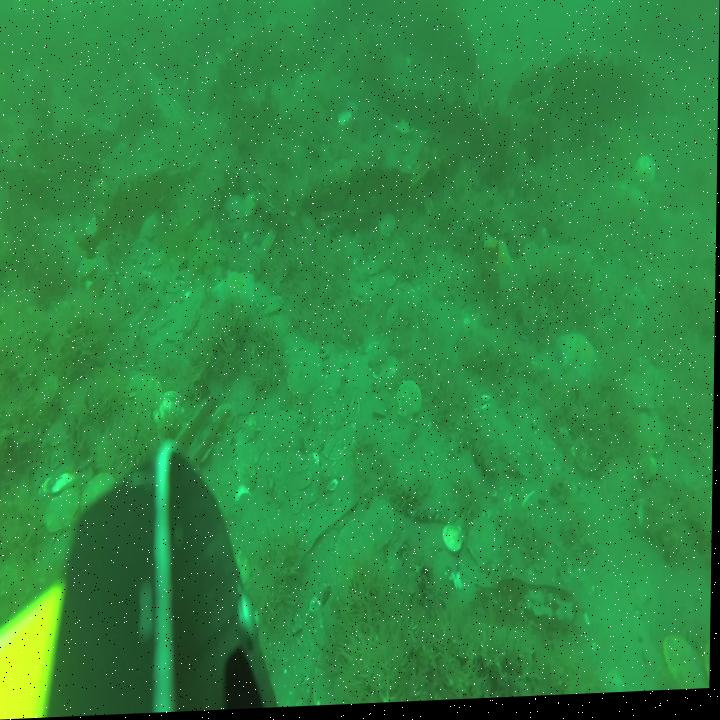holothurian: (445, 427, 472, 466)
scallop: (336, 519, 379, 590), (663, 633, 708, 696), (603, 458, 642, 518), (574, 433, 616, 483), (42, 487, 80, 536), (634, 415, 668, 466), (469, 518, 501, 571), (366, 502, 397, 556), (266, 411, 301, 458), (81, 470, 118, 514), (228, 372, 260, 422), (154, 386, 186, 434), (288, 366, 326, 406), (323, 425, 359, 465), (624, 375, 658, 416), (137, 374, 163, 424), (397, 381, 425, 427), (235, 442, 262, 486), (41, 415, 70, 453), (372, 354, 401, 389), (384, 302, 413, 337), (634, 154, 658, 194), (177, 300, 201, 337), (443, 525, 466, 560), (262, 292, 286, 322), (225, 193, 246, 224), (351, 283, 373, 311), (76, 258, 99, 283), (261, 229, 277, 260), (150, 250, 171, 272), (380, 217, 397, 243), (141, 216, 158, 242), (364, 258, 385, 279), (243, 194, 259, 221)
starfish: (556, 325, 600, 391), (210, 267, 259, 326)
